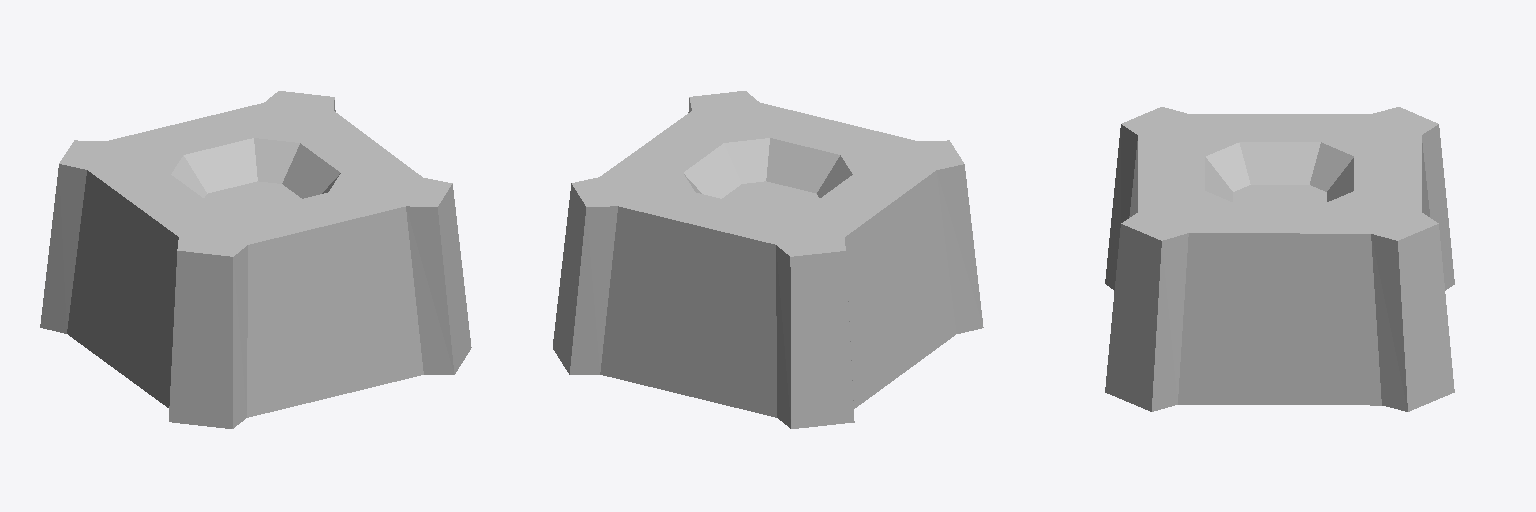
The model's file is BlockAltar.obj.
3 views of the same model, side by side, from view 1: azimuth 30°, elevation 25°; view 2: azimuth 150°, elevation 25°; view 3: azimuth 270°, elevation 25° (orthographic).
Visible parts, largest first — view 1: headusOBJexport002; view 2: headusOBJexport002; view 3: headusOBJexport002.
Part boxes in pixels (bbox=[...]): headusOBJexport002: bbox=[40, 91, 471, 428]; headusOBJexport002: bbox=[553, 91, 983, 428]; headusOBJexport002: bbox=[1105, 107, 1454, 411].
Size of the model in its own units: 1.54 by 0.8 by 1.54.